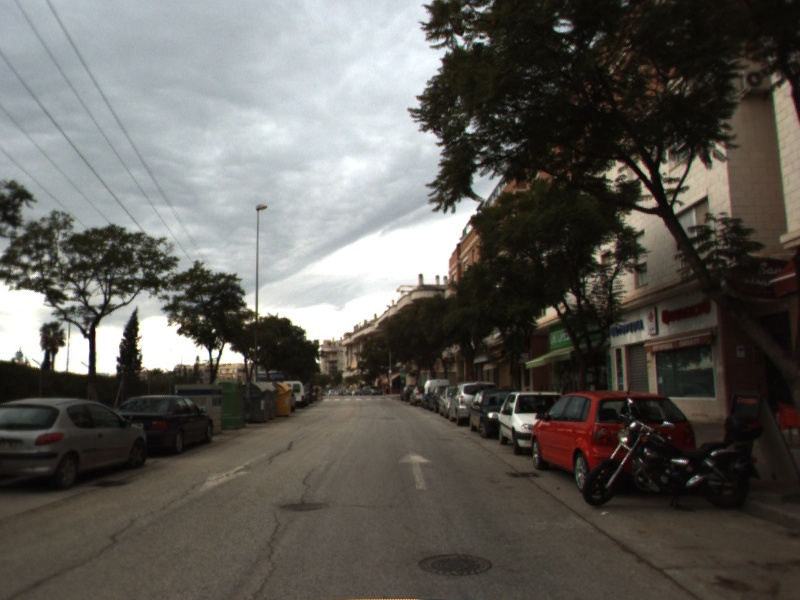STRAIGHT: (396, 449, 435, 491)
